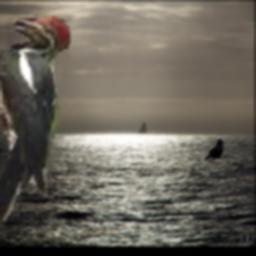Crow: (202, 139, 224, 165)
Woodpecker: (0, 14, 70, 241)
